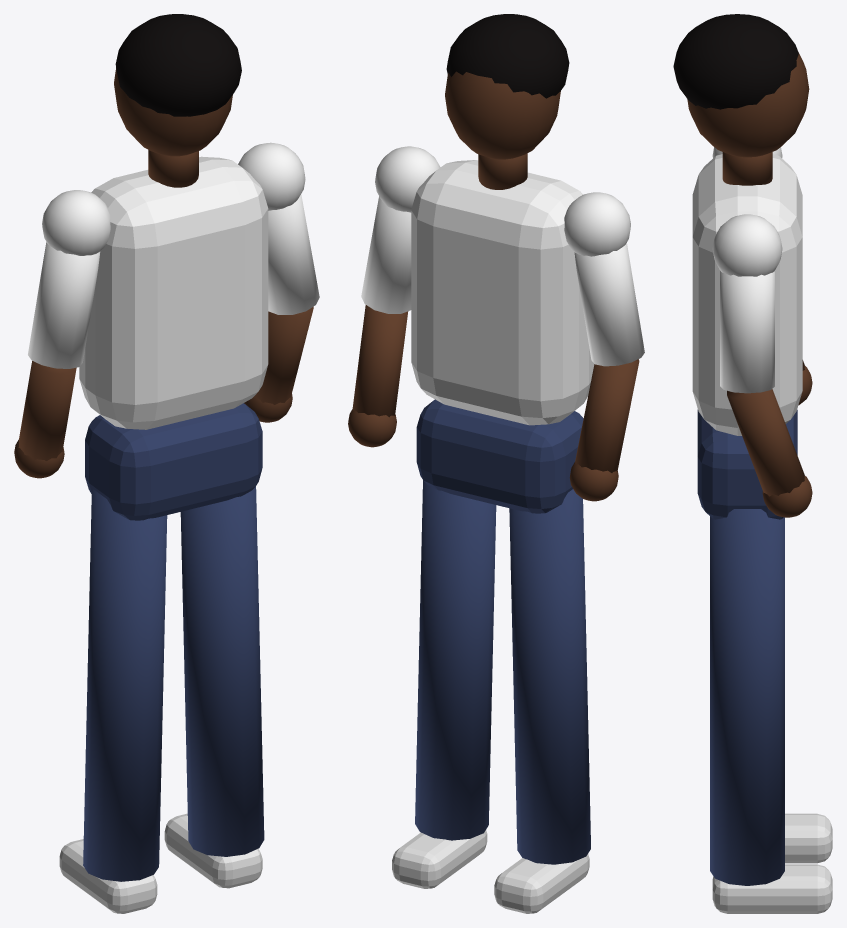
The model's file is Person_Stand.fbx.
The picture shows the model from 3 angles, left to right: view 1: azimuth 30°, elevation 25°; view 2: azimuth 150°, elevation 25°; view 3: azimuth 270°, elevation 25°; orthographic projection. The views are drawn at different scales.
Visible parts, largest first — view 1: Person_Stand; view 2: Person_Stand; view 3: Person_Stand.
Boxes of the visible parts, x1,y1,x2,y2 form: Person_Stand: [14, 14, 319, 913]; Person_Stand: [348, 14, 644, 913]; Person_Stand: [673, 14, 832, 913].
Size of the model in its own units: 0.6483 by 1.9 by 0.3183.
